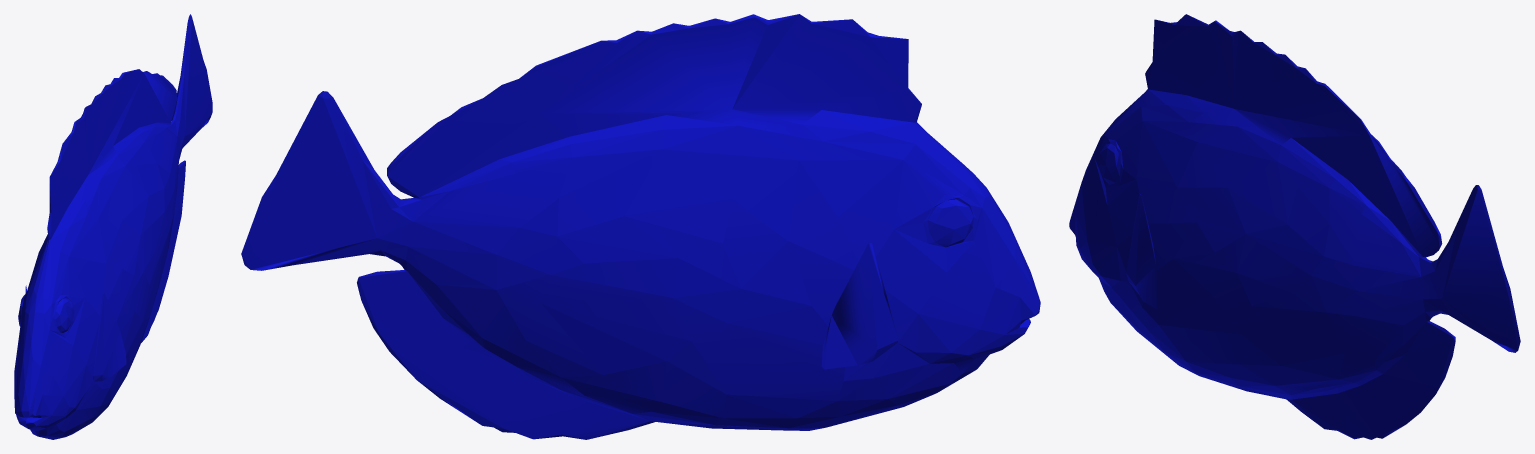
Rendered from peixe4.obj.
3 views of the same model, side by side, from view 1: azimuth 30°, elevation 25°; view 2: azimuth 150°, elevation 25°; view 3: azimuth 270°, elevation 25° (orthographic). The views are drawn at different scales.
Visible parts, largest first — view 1: Peixe2; view 2: Peixe2; view 3: Peixe2.
Part boxes in pixels (bbox=[...]): Peixe2: bbox=[14, 14, 212, 439]; Peixe2: bbox=[241, 14, 1040, 439]; Peixe2: bbox=[1069, 14, 1520, 439].
Size of the model in its own units: 8.98 by 6.74 by 7.78.
